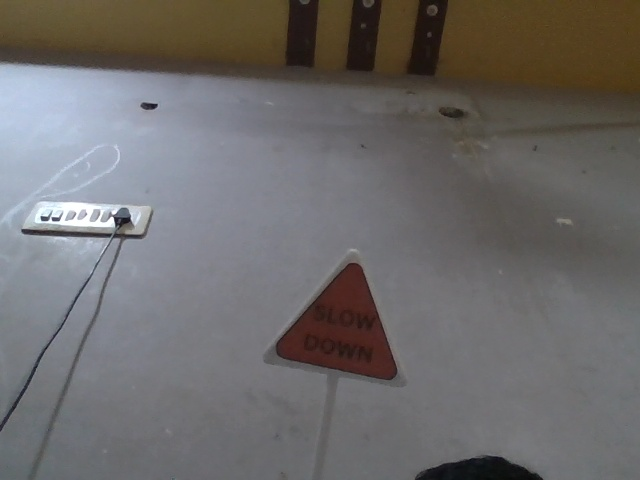slowdown: (259, 251, 404, 389)
